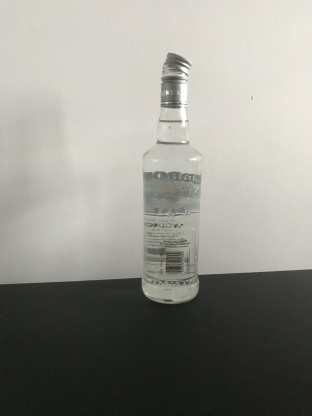nakretka: (159, 49, 192, 108)
